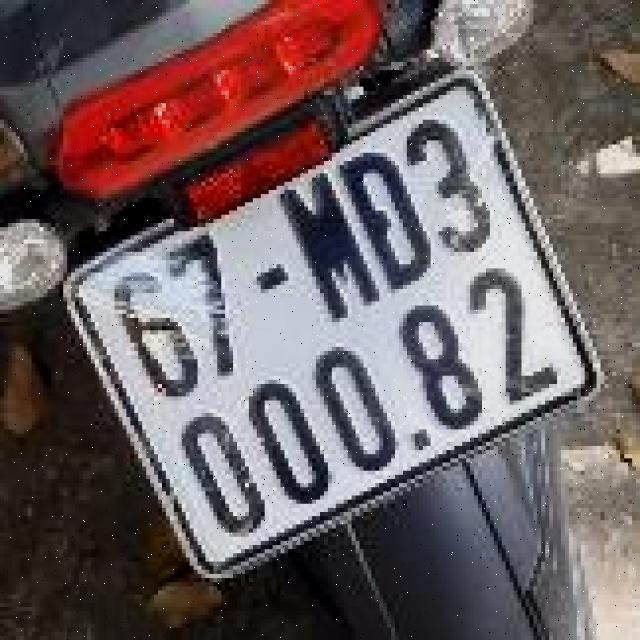0: (162, 396, 282, 554), (302, 328, 415, 484), (230, 362, 343, 514)
2: (446, 246, 573, 417)
3: (389, 99, 516, 270)
6: (98, 253, 216, 419)
7: (149, 220, 266, 394)
8: (383, 287, 503, 447)
D: (329, 130, 449, 304)
M: (266, 154, 392, 336)
